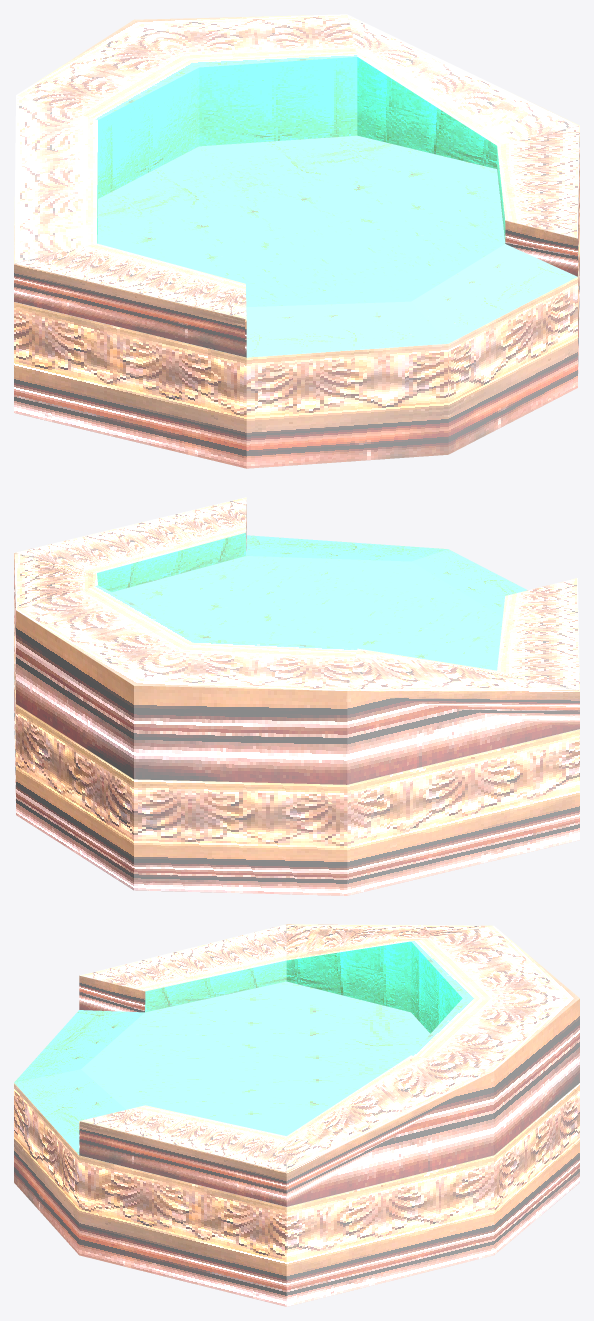
Rendered from cat_throne.glb.
3 renders of one model, top to bottom at view 1: azimuth 30°, elevation 25°; view 2: azimuth 150°, elevation 25°; view 3: azimuth 270°, elevation 25°, orthographic. The views are drawn at different scales.
Parts seen in each view (by area): view 1: cat_throne; view 2: cat_throne; view 3: cat_throne.
Boxes of the visible parts, x1,y1,x2,y2 form: cat_throne: (14, 14, 579, 468); cat_throne: (14, 497, 579, 895); cat_throne: (14, 924, 579, 1306).
Bounding box in the file's own units: 13.17 × 4.55 × 12.68.
